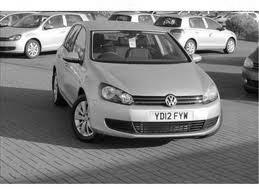car: (52, 21, 225, 145)
